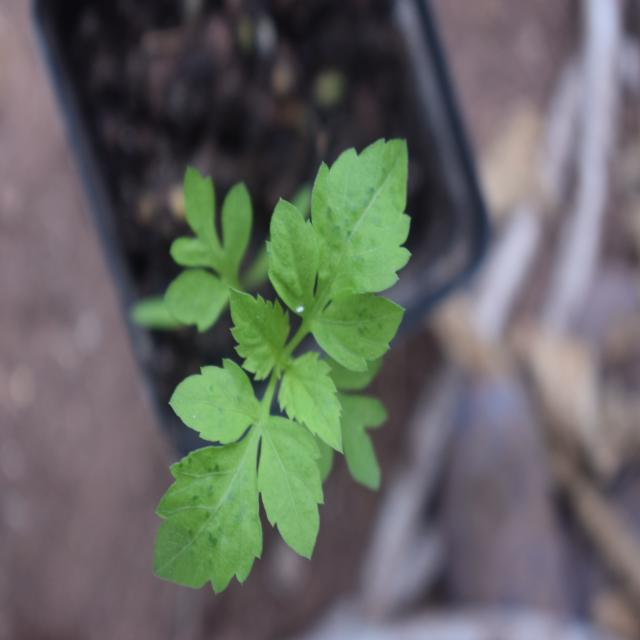Bidens pilosa: (142, 105, 436, 613)
